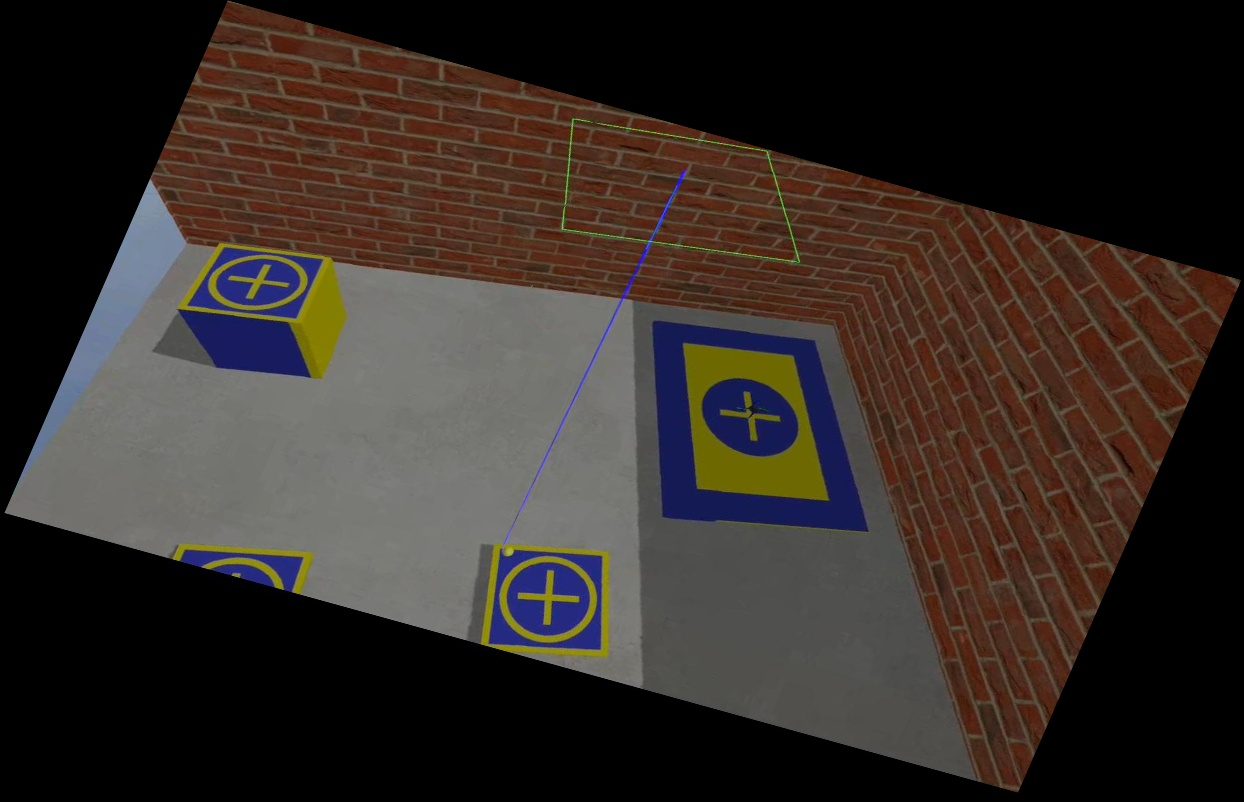large_base: (574, 297, 939, 573)
small_base: (450, 522, 649, 679), (173, 225, 333, 347), (169, 517, 318, 598)
